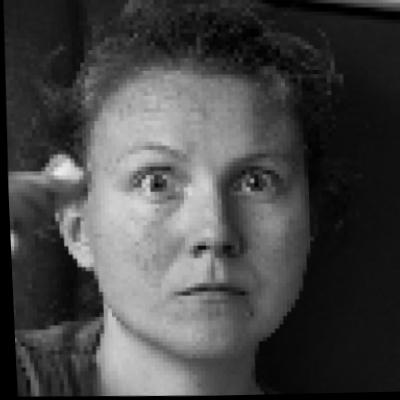surprise: (83, 54, 317, 351)
